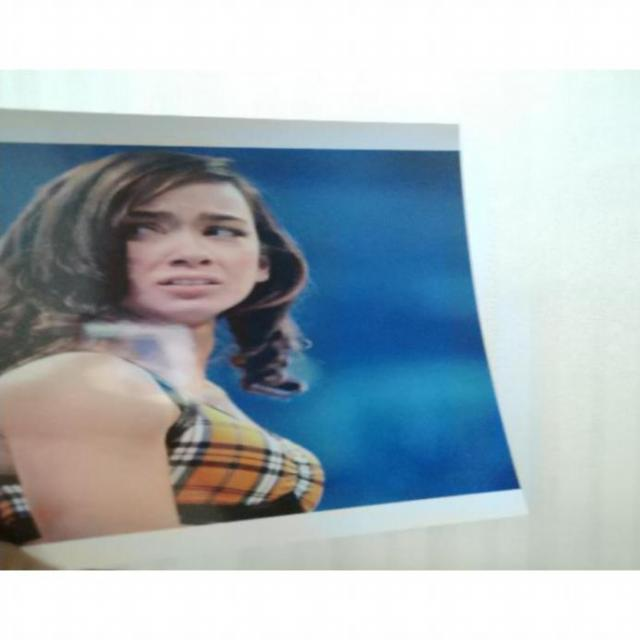photo: (0, 101, 535, 549)
